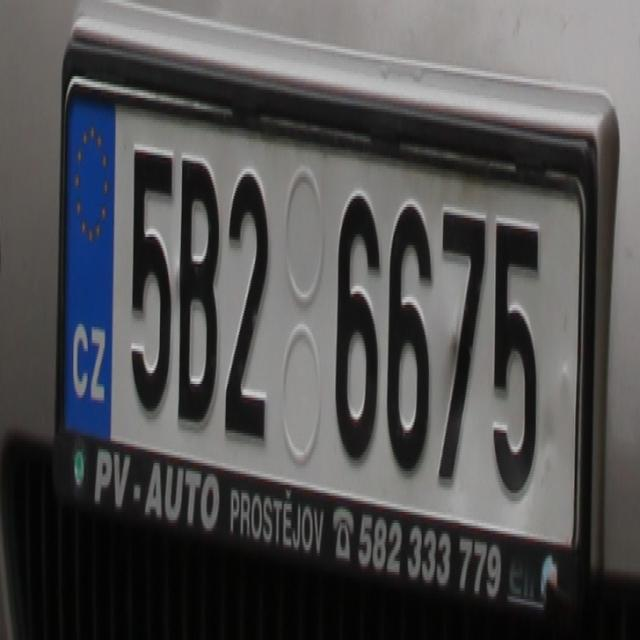2: (224, 166, 272, 449)
5: (490, 204, 542, 498), (128, 139, 174, 417)
6: (332, 183, 380, 471), (386, 193, 429, 485)
7: (434, 196, 486, 493)
B: (174, 153, 221, 433)
